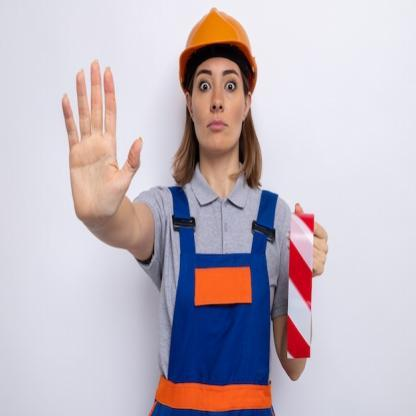stop: (60, 56, 144, 228)
